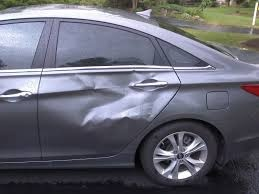Dent: (73, 69, 172, 128)
